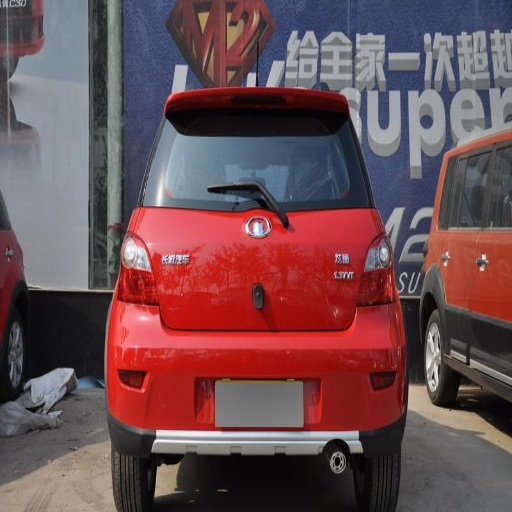back_bumper: (109, 300, 405, 453)
back_left_light: (117, 211, 158, 306)
back_right_door: (438, 181, 488, 361)
trunk: (141, 210, 381, 399)
